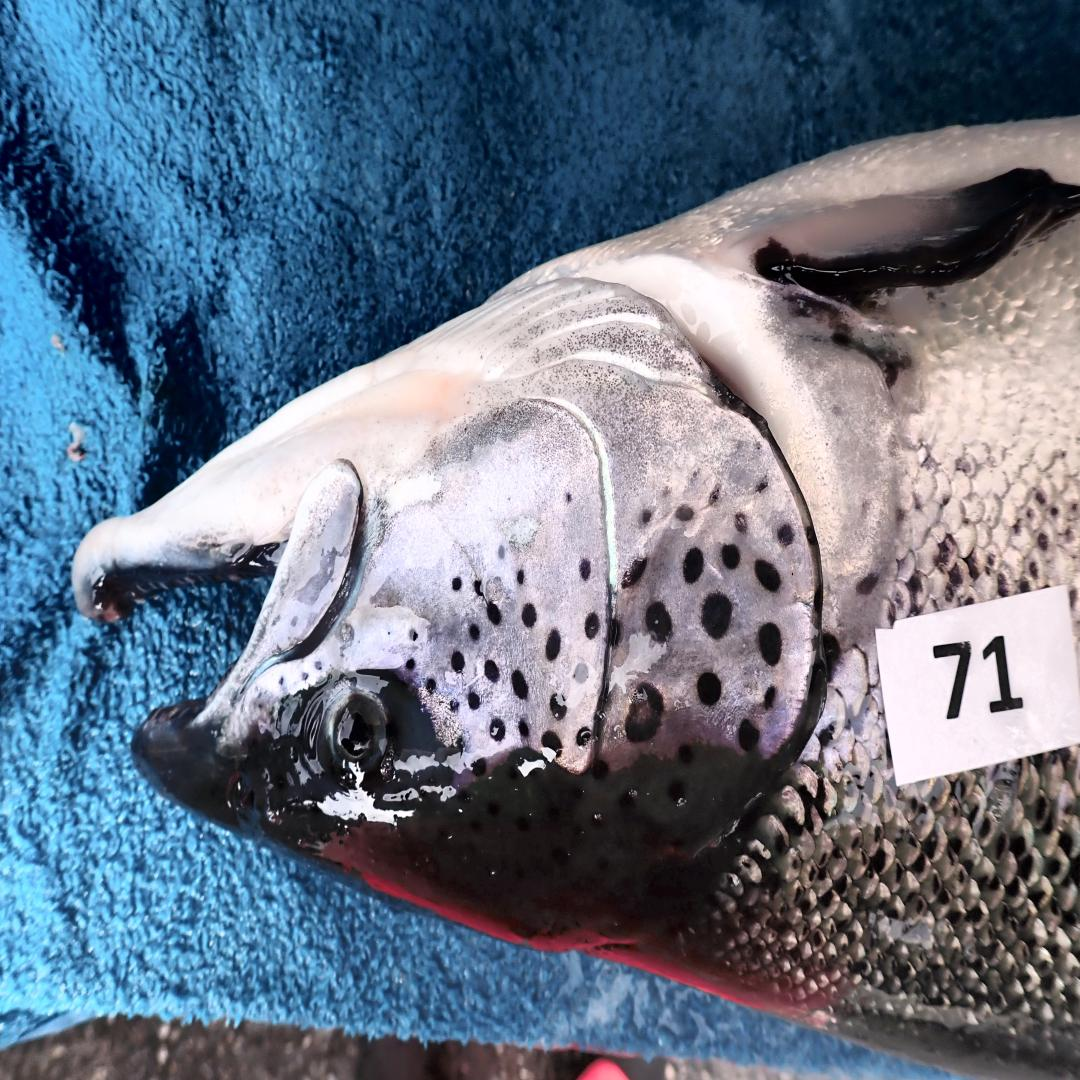spot: (624, 683, 664, 742), (700, 591, 733, 640), (645, 602, 673, 641), (759, 623, 782, 668), (754, 559, 781, 593), (696, 672, 721, 706), (622, 557, 648, 588), (683, 548, 705, 582), (738, 720, 759, 751), (510, 669, 529, 700), (542, 731, 563, 756), (548, 695, 567, 720), (546, 630, 561, 661), (776, 523, 795, 546), (489, 717, 506, 742), (721, 546, 740, 568), (675, 503, 694, 523), (584, 613, 599, 638), (677, 743, 694, 764), (610, 619, 622, 647), (521, 605, 536, 627), (487, 602, 502, 624), (485, 661, 500, 683), (592, 760, 609, 779), (763, 686, 775, 711), (451, 650, 464, 672), (574, 664, 589, 683), (576, 726, 591, 745), (472, 757, 486, 777), (457, 731, 470, 751), (734, 513, 747, 532), (468, 692, 481, 709), (806, 527, 817, 547), (580, 560, 591, 579), (468, 624, 479, 641), (519, 720, 529, 737), (473, 581, 483, 597), (710, 487, 720, 503), (451, 577, 462, 591), (426, 679, 436, 693), (756, 482, 767, 494), (450, 699, 458, 713), (641, 513, 652, 523), (516, 570, 523, 585), (406, 659, 415, 670), (498, 546, 505, 559), (409, 630, 417, 640), (566, 492, 572, 501)
